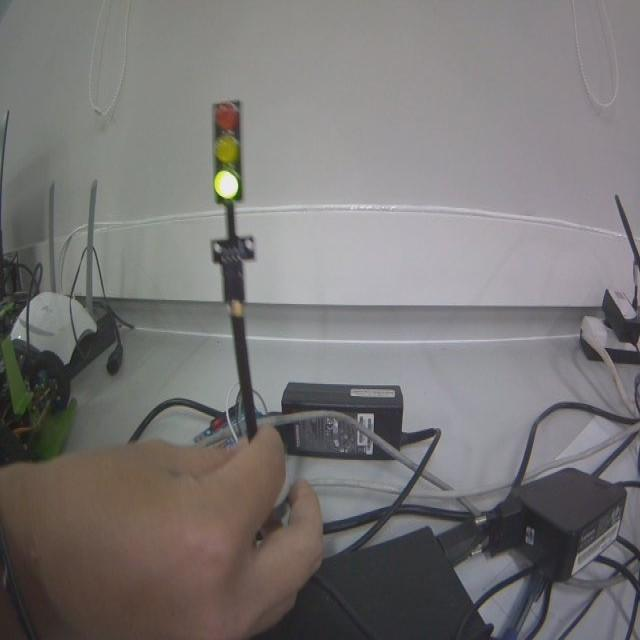Lampu Hijau: (212, 98, 244, 206)
